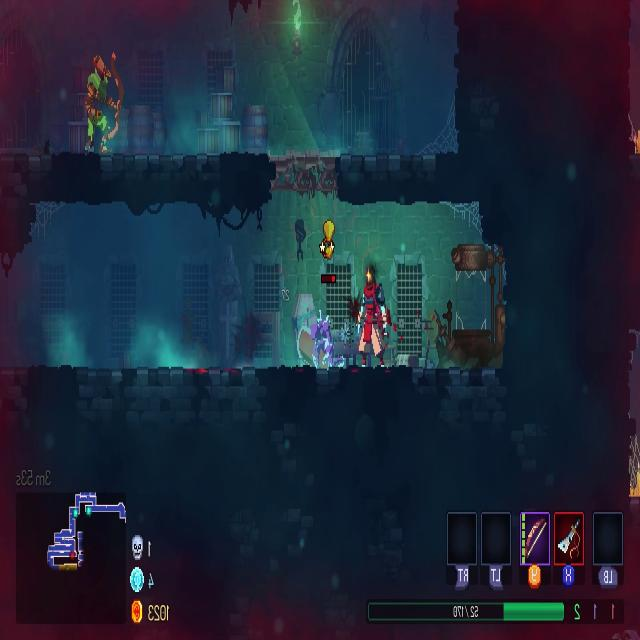agents: (356, 269, 388, 370)
enemy_archer: (82, 53, 121, 152)
enemy_purple_shield: (295, 314, 345, 371)
wood_floor: (267, 146, 337, 198)
